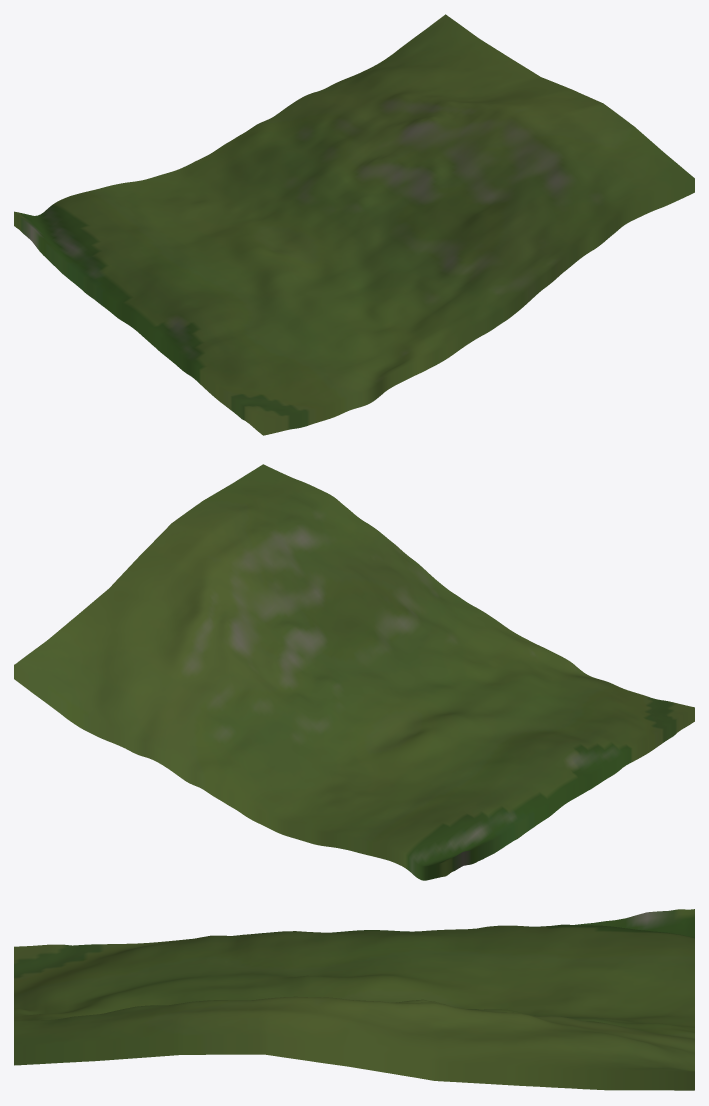
File: terrain_9_-16.glb
3 views of the same model, one above another, from view 1: azimuth 30°, elevation 25°; view 2: azimuth 150°, elevation 25°; view 3: azimuth 270°, elevation 25° (orthographic). The views are drawn at different scales.
Visible parts, largest first — view 1: terrain_9_-16; view 2: terrain_9_-16; view 3: terrain_9_-16.
Part boxes in pixels (box(x1,y1,x2,y2)): terrain_9_-16: box(14, 14, 694, 435); terrain_9_-16: box(14, 464, 694, 880); terrain_9_-16: box(14, 909, 694, 1090).
Bounding box in the file's own units: 256 × 91.34 × 256.
